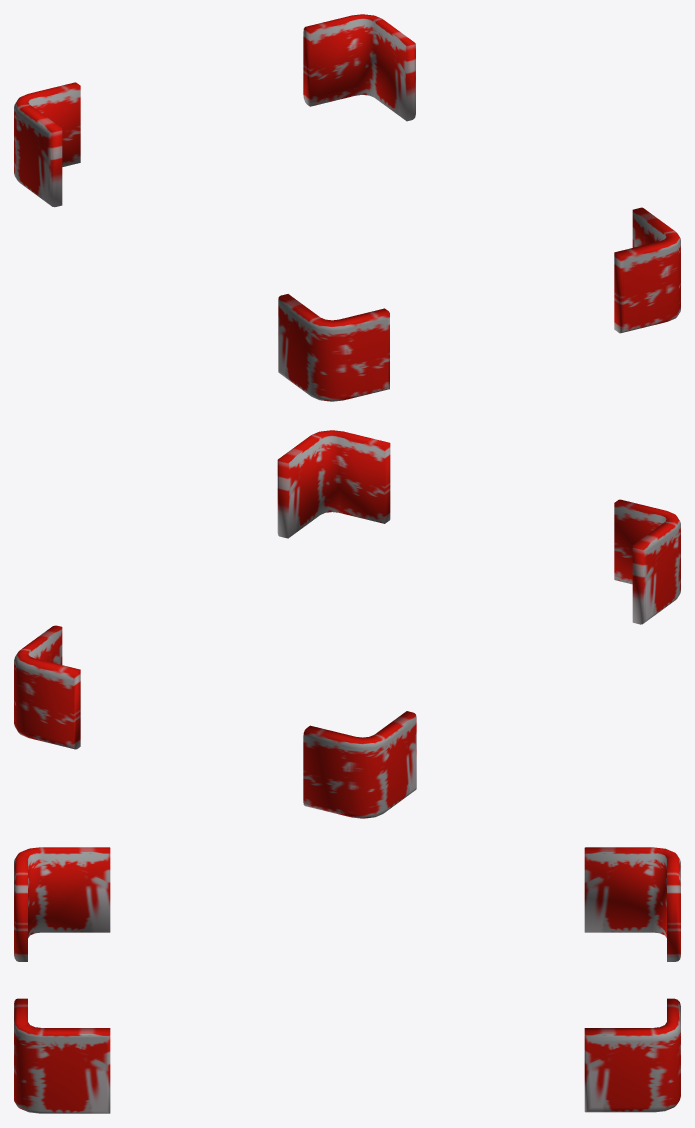
The model's file is borde.fbx.
The picture shows the model from 3 angles, top to bottom: view 1: azimuth 30°, elevation 25°; view 2: azimuth 150°, elevation 25°; view 3: azimuth 270°, elevation 25°; orthographic projection. The views are drawn at different scales.
Parts seen in each view (by area): view 1: Cube.007; view 2: Cube.007; view 3: Cube.007.
Part boxes in pixels (bbox=[...]): Cube.007: bbox=[14, 14, 680, 401]; Cube.007: bbox=[14, 430, 680, 818]; Cube.007: bbox=[14, 847, 680, 1113].
Size of the model in its own units: 11.97 by 2.4 by 17.91.
1 material, 1 textured.
